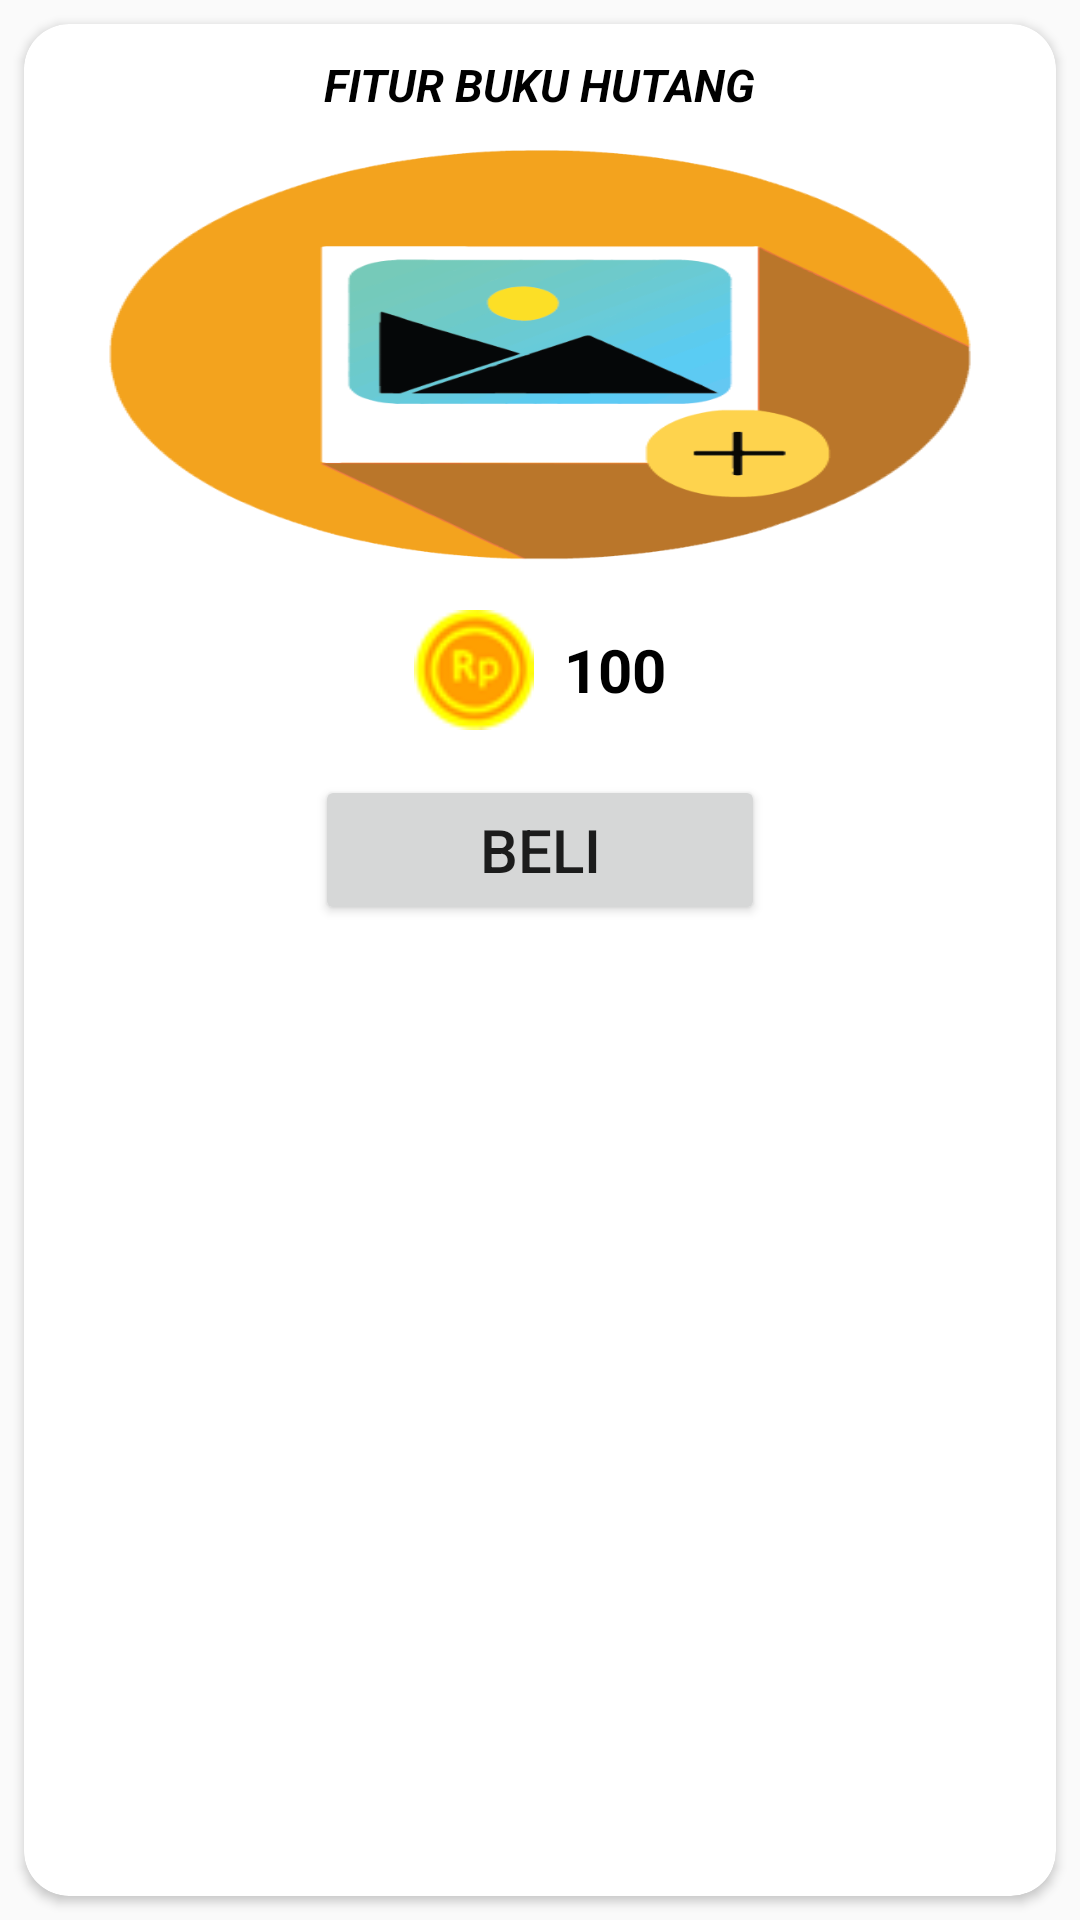

Icon click points for this 1080px x 1920px phone screenshot, format point (x, y):
kumat koin: point (474, 670)
